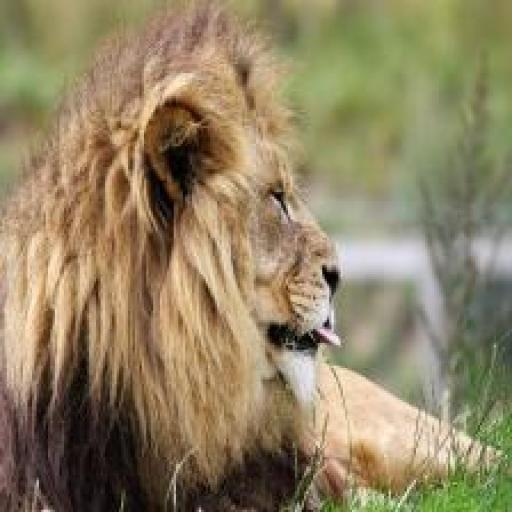lion: (9, 4, 512, 512)
